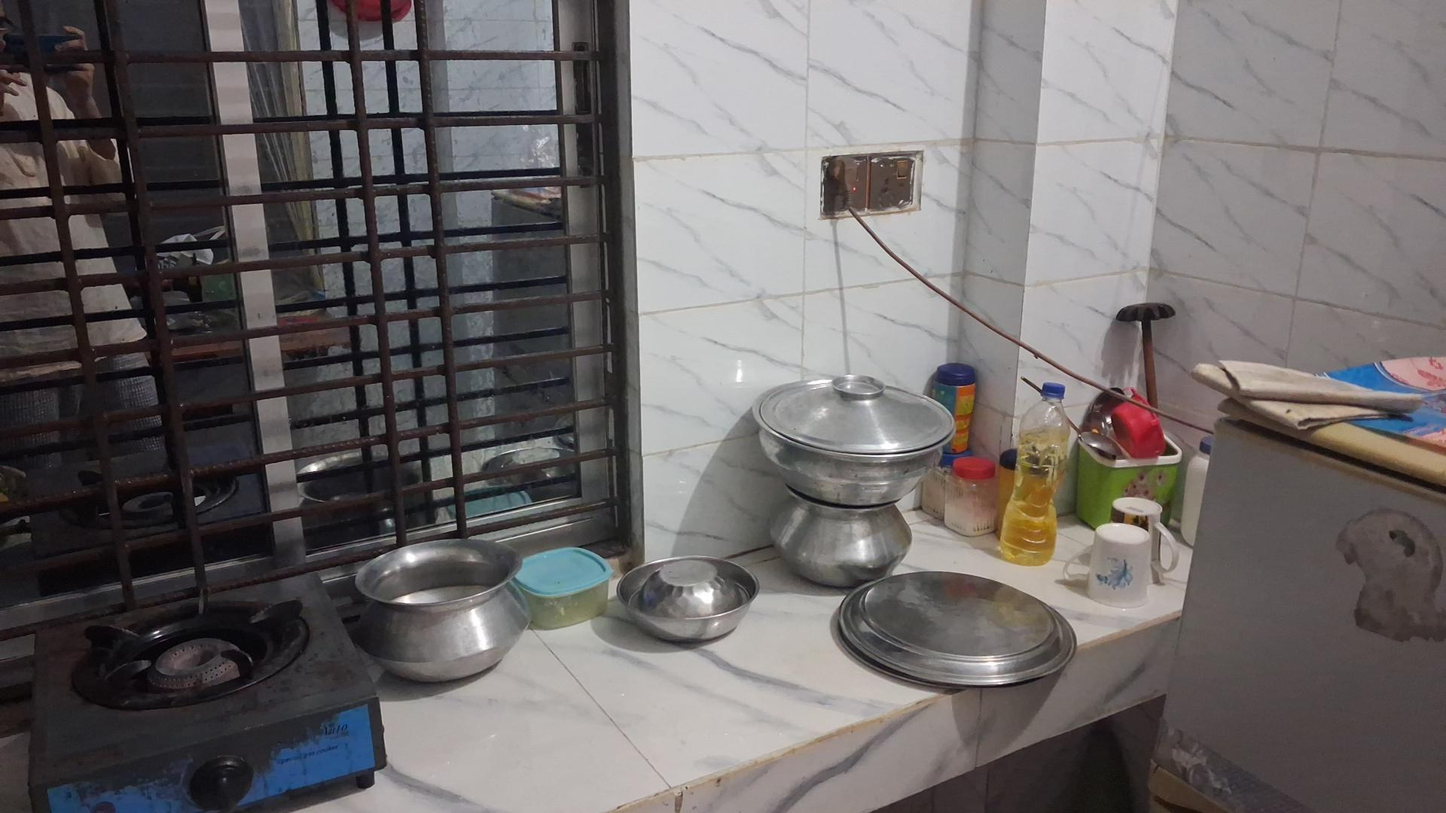Bottle: (1002, 381, 1069, 568)
Bowl: (616, 556, 758, 644)
Cup: (1087, 522, 1153, 609)
Jar: (509, 546, 613, 629), (946, 457, 1000, 539), (932, 362, 976, 455)
Plate: (834, 571, 1072, 686)
Pot: (349, 539, 517, 684), (753, 379, 951, 500), (774, 483, 913, 591)
Window: (0, 0, 619, 610)
